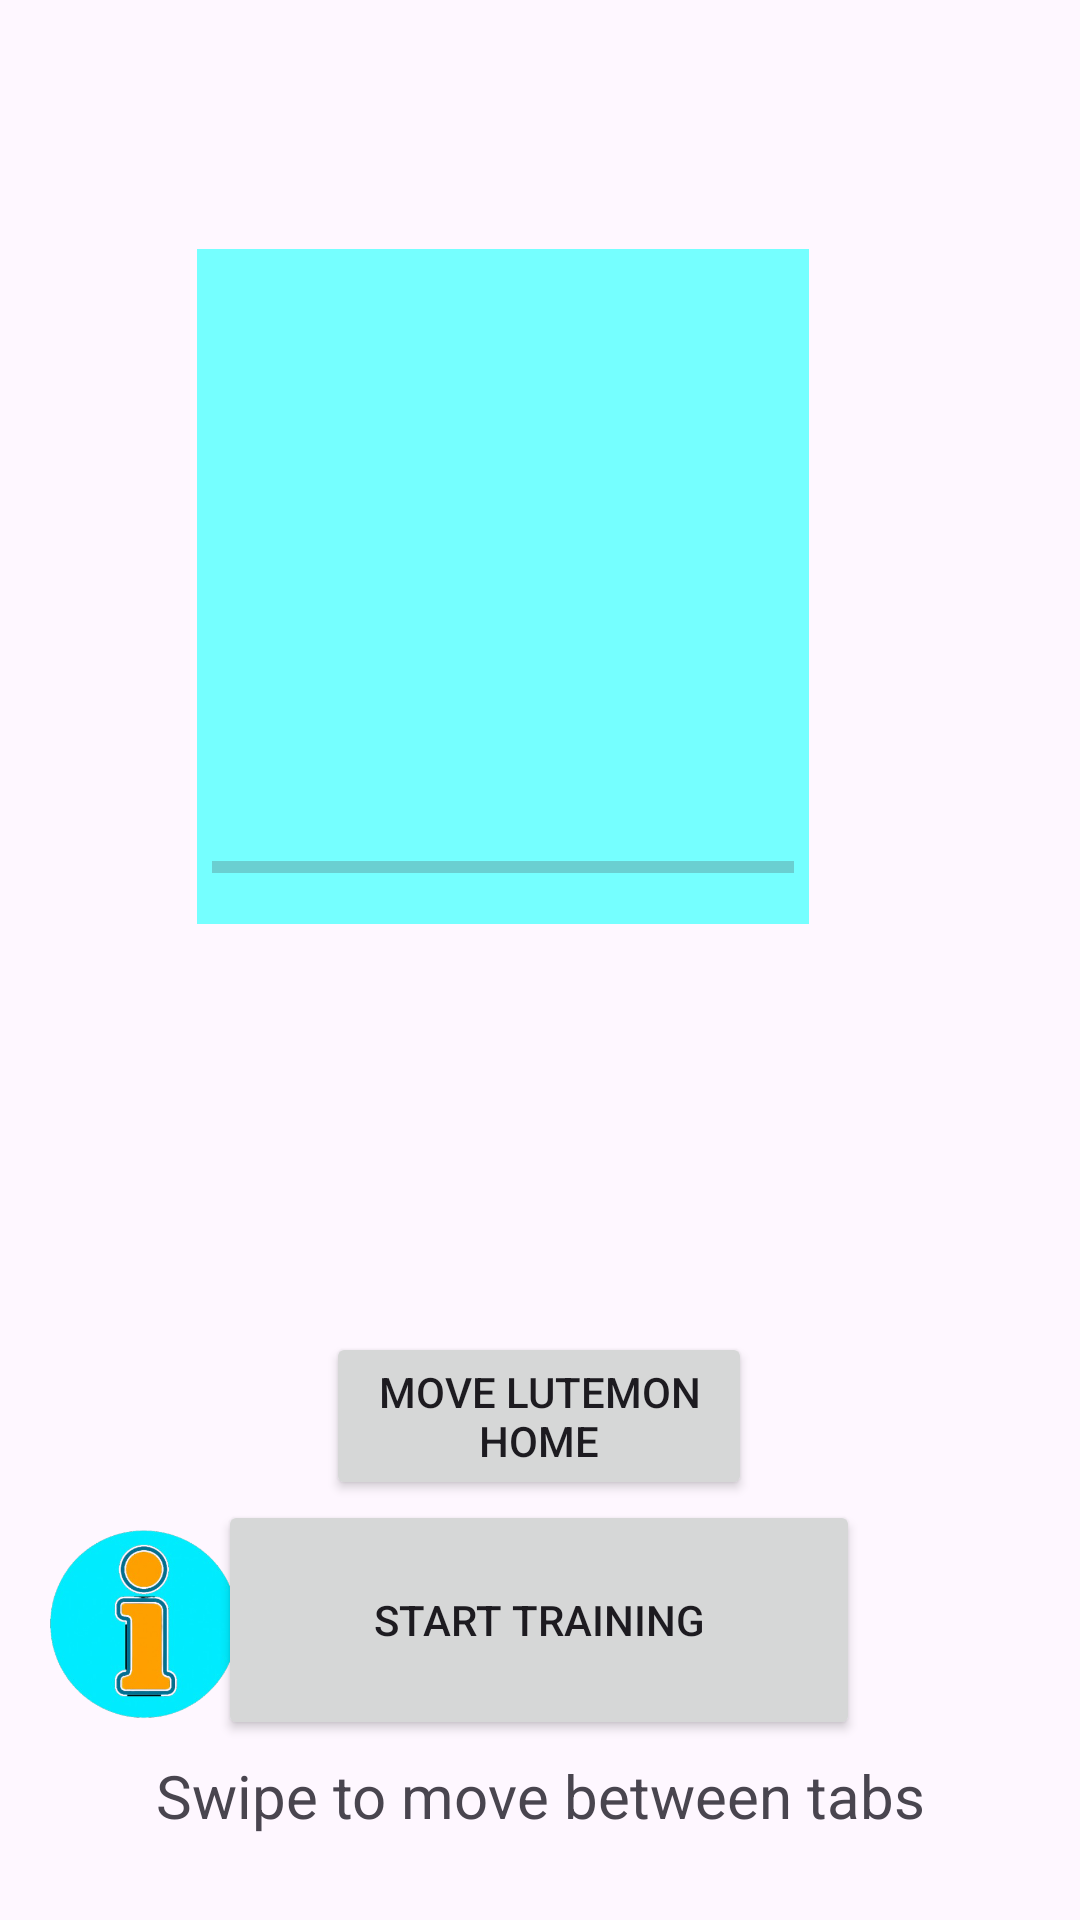

Icon bounding boxes for this 1080px x 1920px phone screenshot, format (x1, y1, x2, y2):
traininginfo: (50, 1518, 288, 1779)
